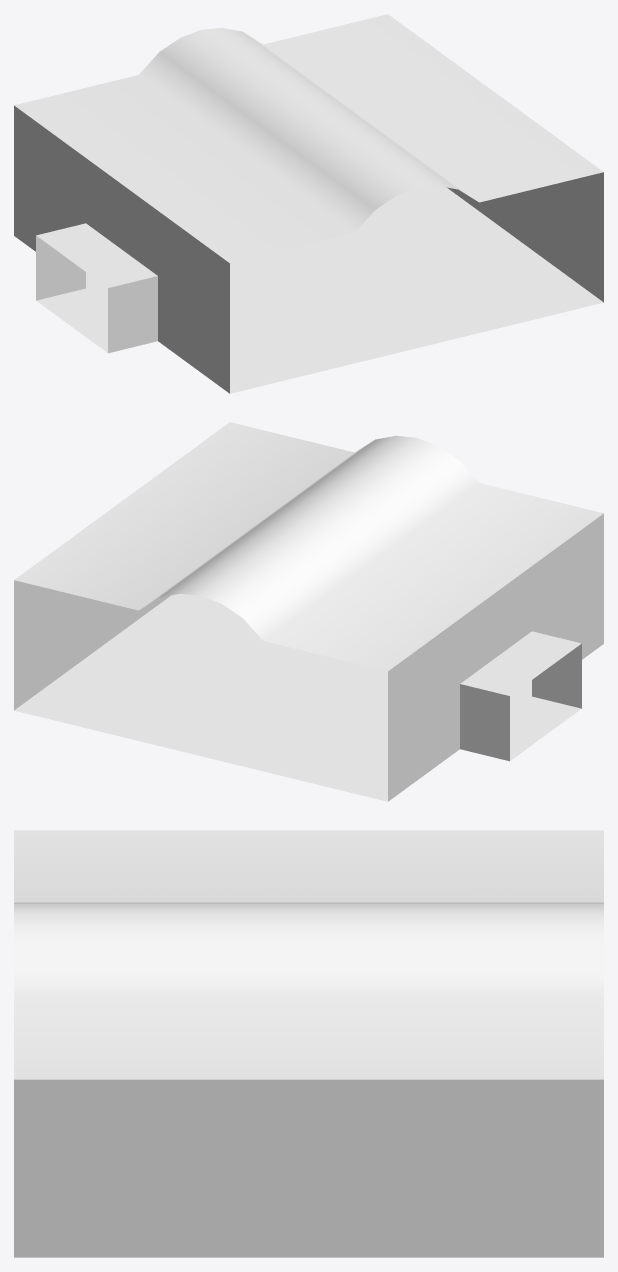
Rendered from hall connect 1.fbx.
3 renders of one model, top to bottom at view 1: azimuth 30°, elevation 25°; view 2: azimuth 150°, elevation 25°; view 3: azimuth 270°, elevation 25°, orthographic. The views are drawn at different scales.
Visible parts, largest first — view 1: pPlane6; view 2: pPlane6; view 3: pPlane6.
Part boxes in pixels (x1,y1,x2,y2): pPlane6: (14, 14, 603, 393); pPlane6: (14, 422, 603, 801); pPlane6: (14, 830, 603, 1257).
Bounding box in the file's own units: 1700 × 614 × 1500.
